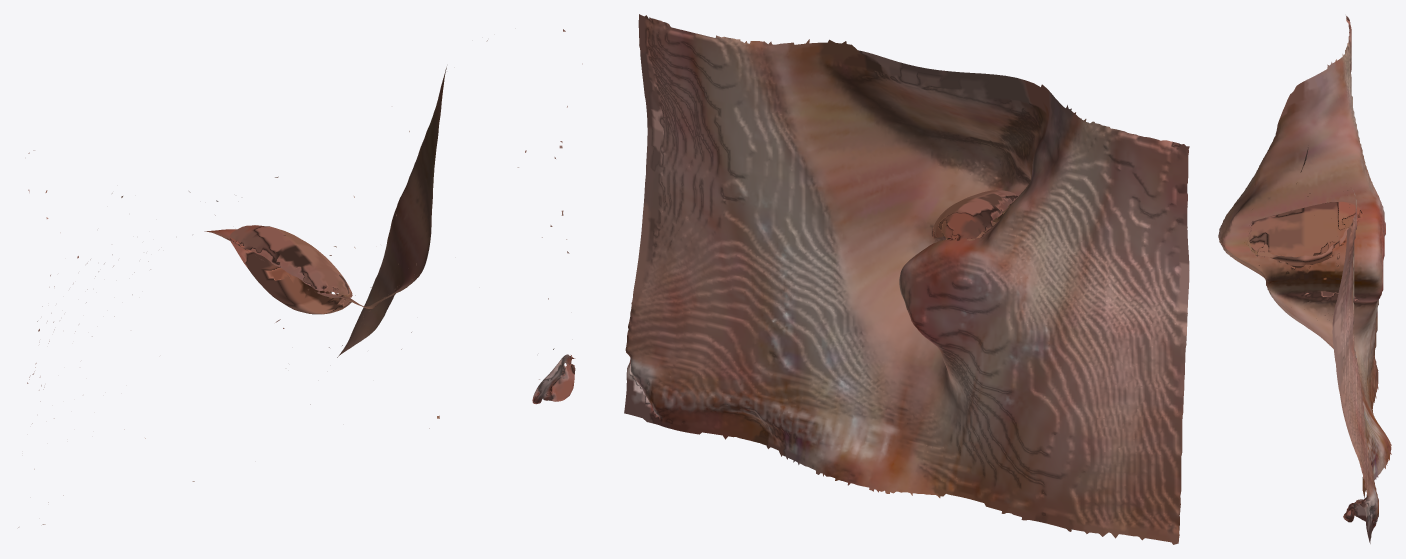
File: lesion (10).gltf
The picture shows the model from 3 angles, left to right: view 1: azimuth 30°, elevation 25°; view 2: azimuth 150°, elevation 25°; view 3: azimuth 270°, elevation 25°; orthographic projection. The views are drawn at different scales.
Bounding box in the file's own units: 0.00146 × 0.00101 × 0.000494.
